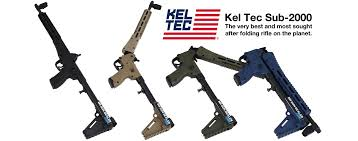gun: (32, 1, 116, 139), (107, 1, 175, 138), (231, 47, 326, 138), (165, 46, 253, 138)
